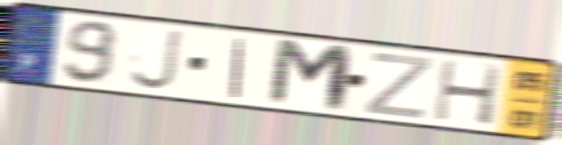9: (59, 18, 121, 86)
H: (430, 57, 505, 128)
I: (227, 35, 249, 101)
J: (126, 26, 184, 93)
M: (265, 36, 357, 116)
Z: (360, 50, 435, 122)
